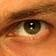eye: (25, 21, 41, 34)
